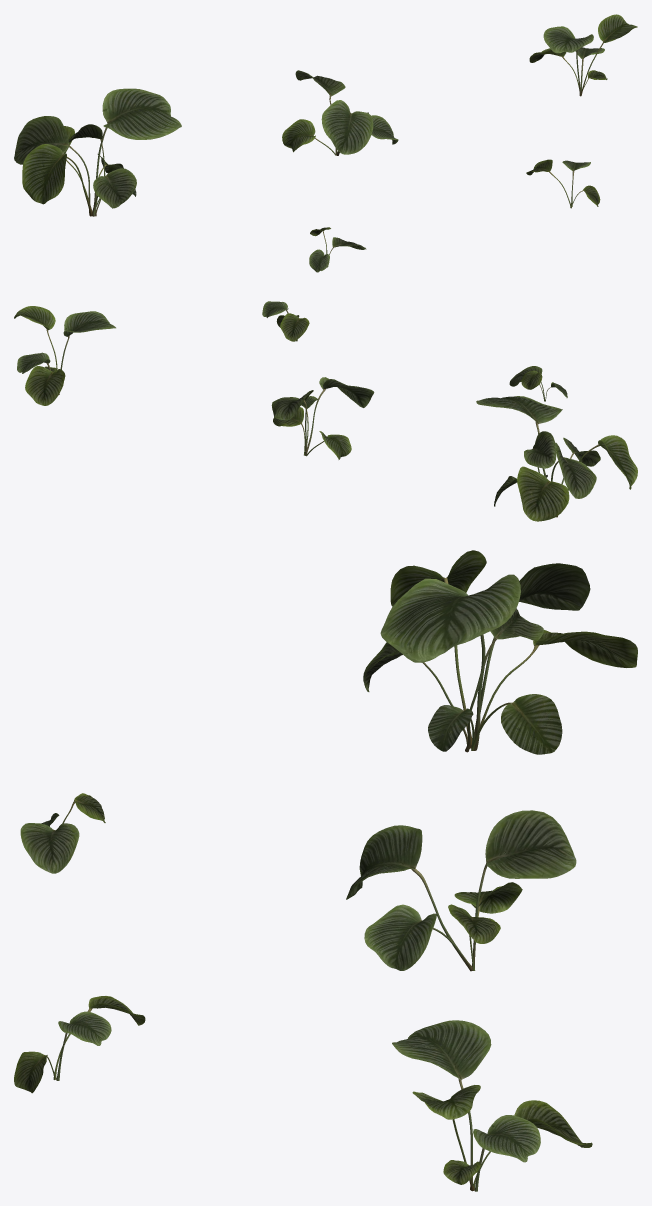
The model's file is calathea.glb.
The picture shows the model from 3 angles, top to bottom: view 1: azimuth 30°, elevation 25°; view 2: azimuth 150°, elevation 25°; view 3: azimuth 270°, elevation 25°; orthographic projection. The views are drawn at different scales.
Visible parts, largest first — view 1: calathea_orbifolia_01_a, calathea_orbifolia_01_b, calathea_orbifolia_01_c, calathea_orbifolia_01_e, calathea_orbifolia_01_d; view 2: calathea_orbifolia_01_a, calathea_orbifolia_01_c, calathea_orbifolia_01_b, calathea_orbifolia_01_e, calathea_orbifolia_01_d; view 3: calathea_orbifolia_01_a, calathea_orbifolia_01_b, calathea_orbifolia_01_c, calathea_orbifolia_01_e, calathea_orbifolia_01_d.
Part boxes in pixels (x1,y1,x2,y2): calathea_orbifolia_01_a: (14, 88, 181, 216); calathea_orbifolia_01_b: (282, 70, 398, 155); calathea_orbifolia_01_c: (529, 14, 637, 96); calathea_orbifolia_01_e: (526, 159, 600, 208); calathea_orbifolia_01_d: (309, 227, 366, 272); calathea_orbifolia_01_a: (476, 396, 637, 521); calathea_orbifolia_01_c: (14, 306, 115, 405); calathea_orbifolia_01_b: (271, 377, 374, 459); calathea_orbifolia_01_e: (262, 301, 309, 341); calathea_orbifolia_01_d: (509, 366, 567, 401); calathea_orbifolia_01_a: (363, 550, 637, 754); calathea_orbifolia_01_b: (346, 810, 576, 971); calathea_orbifolia_01_c: (392, 1020, 592, 1191); calathea_orbifolia_01_e: (14, 996, 145, 1093); calathea_orbifolia_01_d: (20, 793, 105, 873).
Size of the model in its own units: 2.49 by 0.4243 by 1.19.
Materials: 1 (1 with a texture image).
